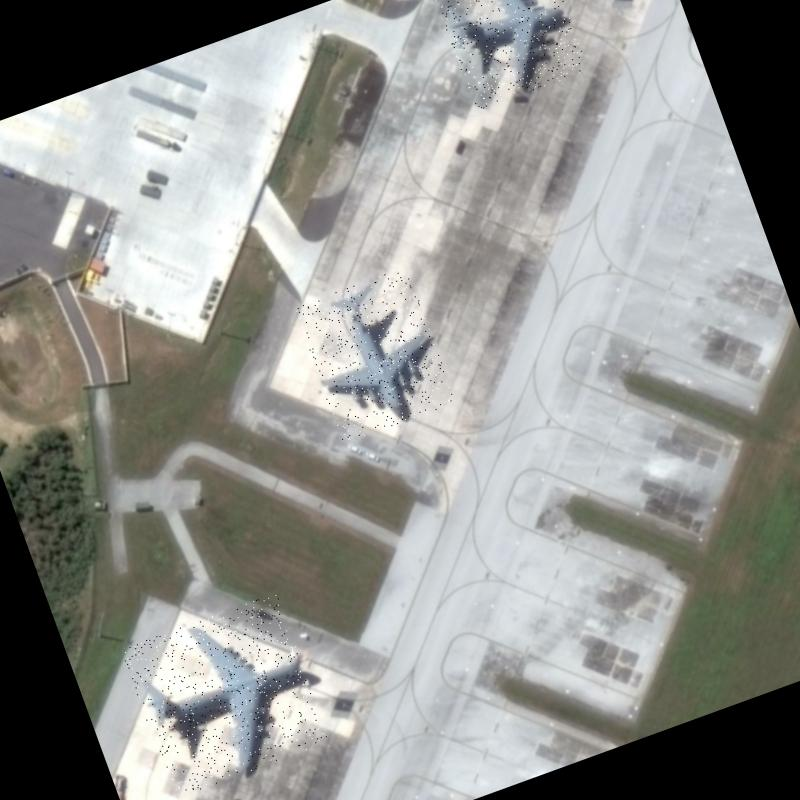A3: (293, 266, 456, 443), (429, 0, 588, 110)
A4: (120, 592, 330, 798)
